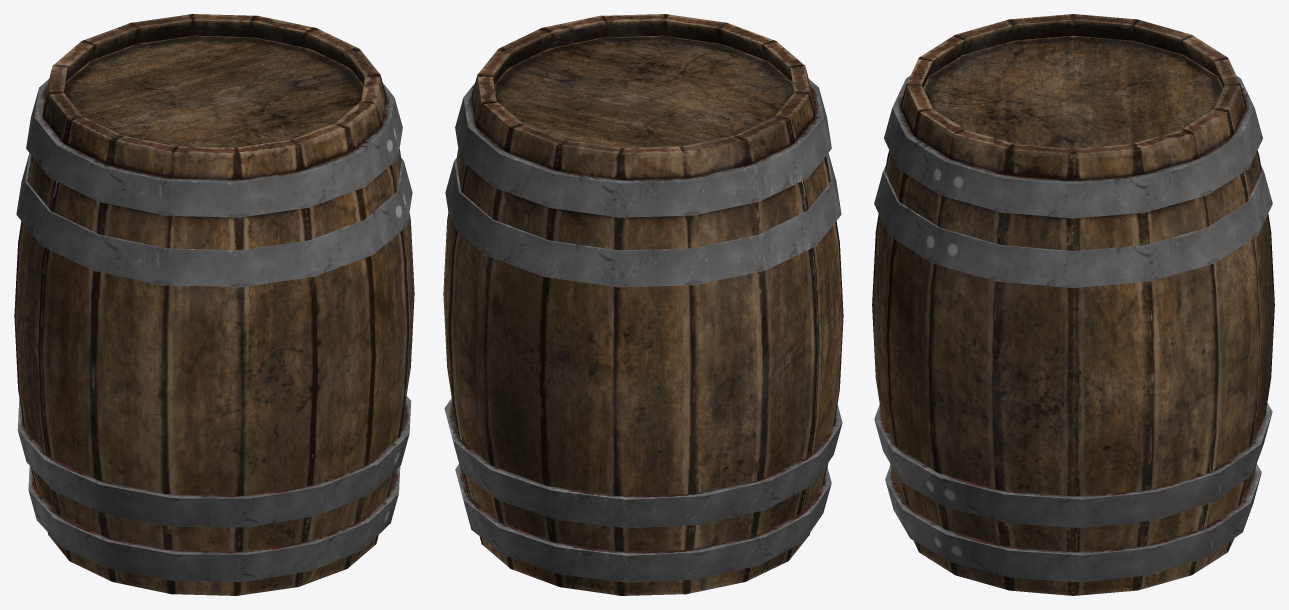
File: Barrel2.obj
3 renders of one model, left to right at view 1: azimuth 30°, elevation 25°; view 2: azimuth 150°, elevation 25°; view 3: azimuth 270°, elevation 25°, orthographic.
Parts seen in each view (by area): view 1: Barrel2_Untitled.003; view 2: Barrel2_Untitled.003; view 3: Barrel2_Untitled.003.
Part boxes in pixels (left/top/right/bottom): Barrel2_Untitled.003: left=14, top=14, right=414, bottom=595; Barrel2_Untitled.003: left=443, top=14, right=843, bottom=595; Barrel2_Untitled.003: left=872, top=14, right=1274, bottom=595.
Bounding box in the file's own units: 8.18 × 9.87 × 8.18.
